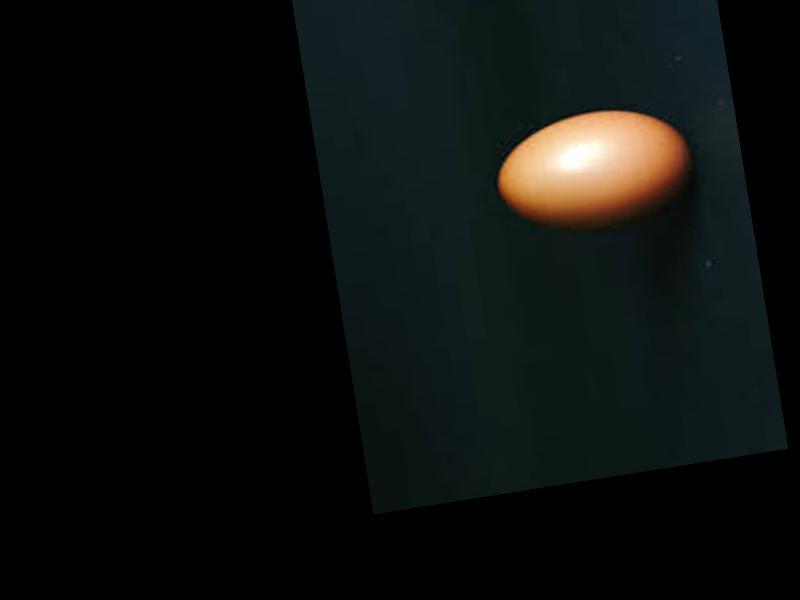Eggs: (490, 99, 700, 241)
